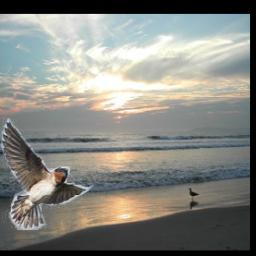Swallow: (1, 119, 95, 231)
